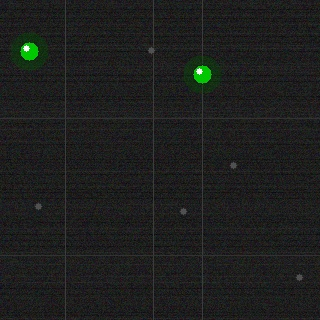green_normal: (18, 40, 40, 62), (191, 63, 213, 85)
